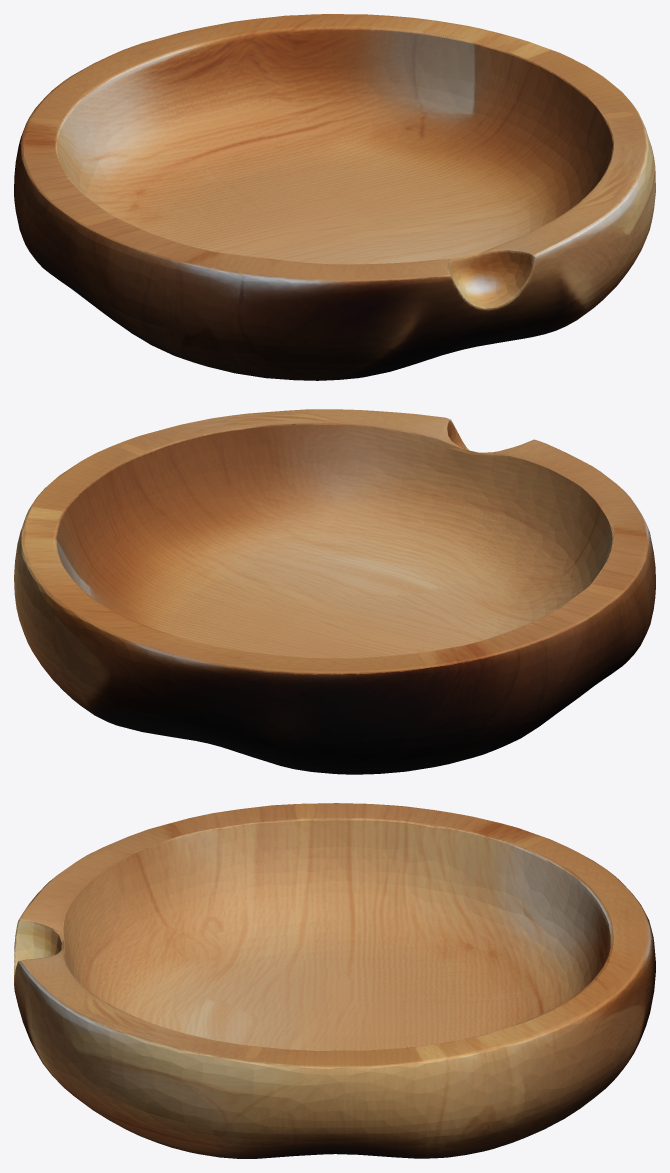
The model's file is wooden-soap-dish-3d.jpeg.glb.
3 renders of one model, top to bottom at view 1: azimuth 30°, elevation 25°; view 2: azimuth 150°, elevation 25°; view 3: azimuth 270°, elevation 25°, orthographic.
Parts seen in each view (by area): view 1: world; view 2: world; view 3: world.
Part boxes in pixels (x1,y1,x2,y2): world: [14, 14, 655, 380]; world: [14, 409, 655, 774]; world: [14, 803, 655, 1158].
Bounding box in the file's own units: 0.9996 × 0.2389 × 1.
Materials: 1 (1 with a texture image).
